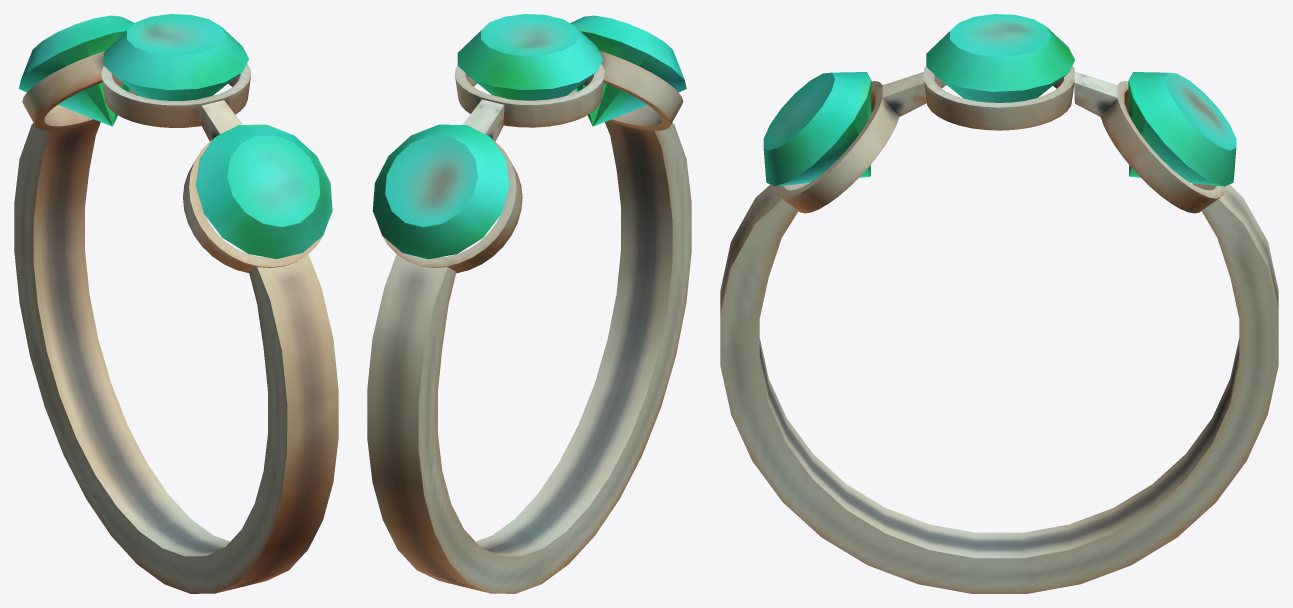
Rendered from SM_Ring_B_Bronze.fbx.
3 renders of one model, left to right at view 1: azimuth 30°, elevation 25°; view 2: azimuth 150°, elevation 25°; view 3: azimuth 270°, elevation 25°, orthographic. The views are drawn at different scales.
Parts seen in each view (by area): view 1: SM_Ring_B_Bronze_LOD0; view 2: SM_Ring_B_Bronze_LOD0; view 3: SM_Ring_B_Bronze_LOD0.
Part boxes in pixels (box(x1,y1,x2,y2)): SM_Ring_B_Bronze_LOD0: box(14, 14, 338, 593); SM_Ring_B_Bronze_LOD0: box(367, 14, 691, 593); SM_Ring_B_Bronze_LOD0: box(720, 14, 1278, 593).
Size of the model in its own units: 0.8258 by 3 by 3.23.
2 materials, 2 textured.
